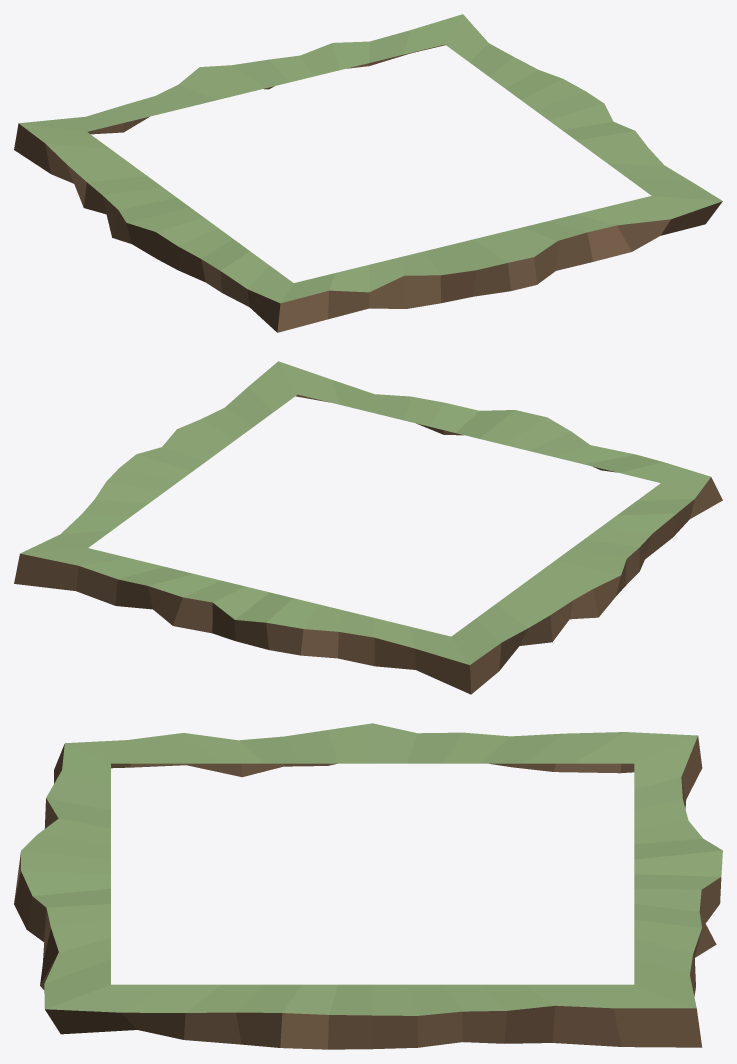
Rendered from entorno.glb.
3 views of the same model, one above another, from view 1: azimuth 30°, elevation 25°; view 2: azimuth 150°, elevation 25°; view 3: azimuth 270°, elevation 25° (orthographic). The views are drawn at different scales.
Parts seen in each view (by area): view 1: bosque_entorno; view 2: bosque_entorno; view 3: bosque_entorno.
Boxes of the visible parts, x1,y1,x2,y2 form: bosque_entorno: (14,14,722,332); bosque_entorno: (14,361,722,694); bosque_entorno: (14,723,722,1049).
Size of the model in its own units: 16.31 by 1.06 by 16.52.
